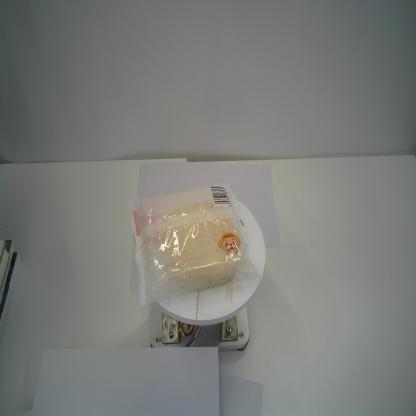Dessert: (125, 180, 263, 308)
